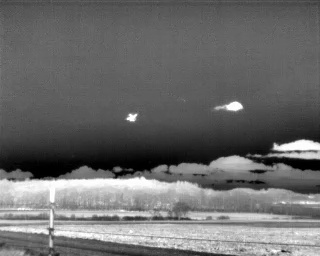DRONE: (122, 108, 142, 127)
